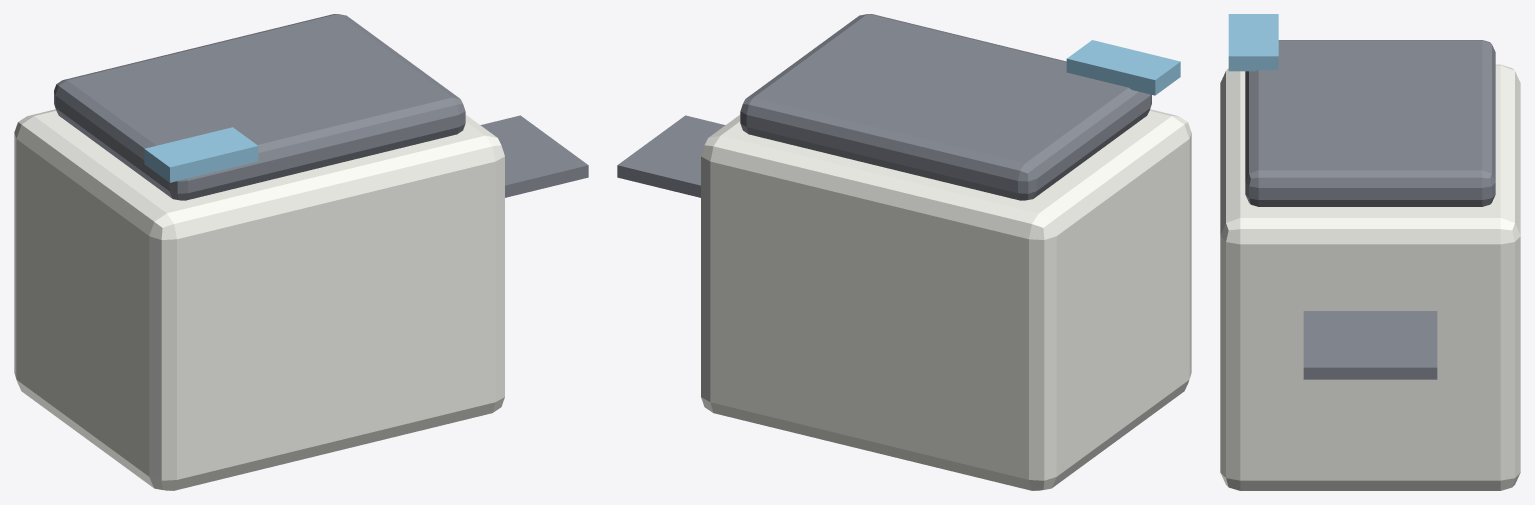
File: int_mesinFotokopi.fbx
3 views of the same model, side by side, from view 1: azimuth 30°, elevation 25°; view 2: azimuth 150°, elevation 25°; view 3: azimuth 270°, elevation 25° (orthographic).
Parts seen in each view (by area): view 1: int_mesinFotokopi; view 2: int_mesinFotokopi; view 3: int_mesinFotokopi.
Part boxes in pixels (bbox=[...]): int_mesinFotokopi: bbox=[14, 14, 588, 490]; int_mesinFotokopi: bbox=[617, 14, 1191, 490]; int_mesinFotokopi: bbox=[1220, 14, 1520, 490].
Size of the model in its own units: 160 by 106 by 90.
1 material, 1 textured.
